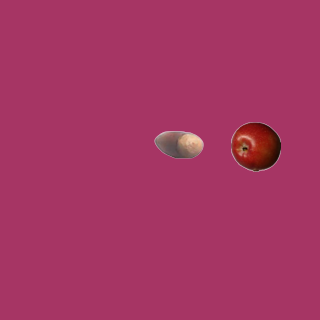Apple Braeburn: (230, 121, 280, 171)
Hazelnut: (153, 119, 203, 169)
